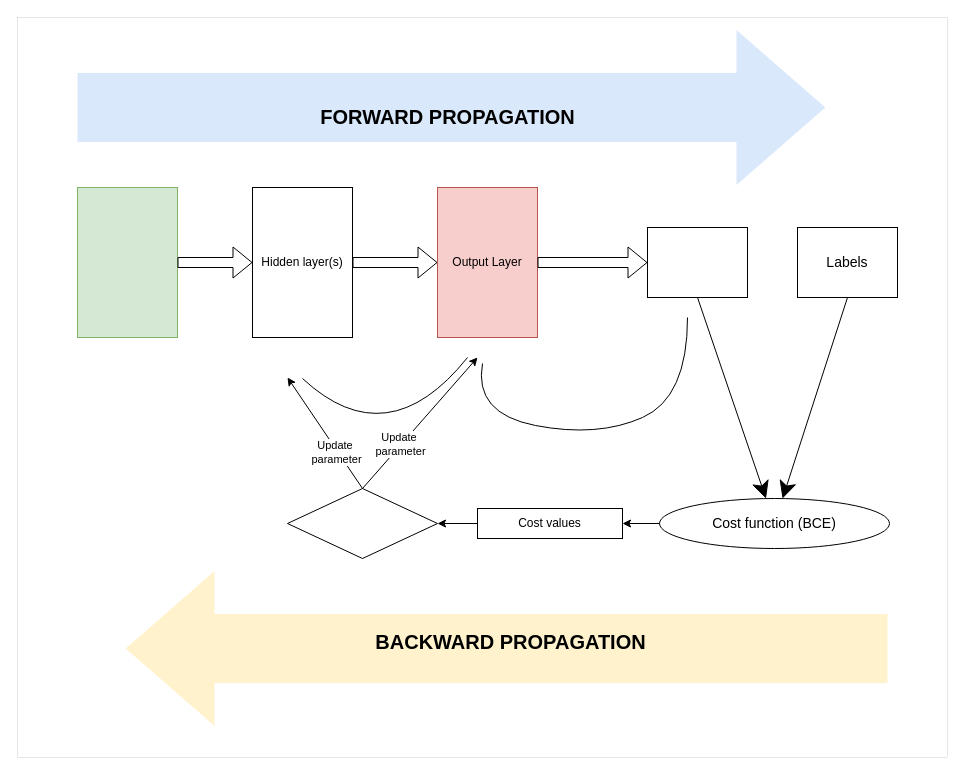
Image size: 964x774. Some labels were removed from this diagram. The centre of each missing label's shape, as x and y in pixels:
"Gradient Descend" goes at point (362, 523).
"Input layer" goes at point (127, 262).
"Scores" goes at point (697, 262).
